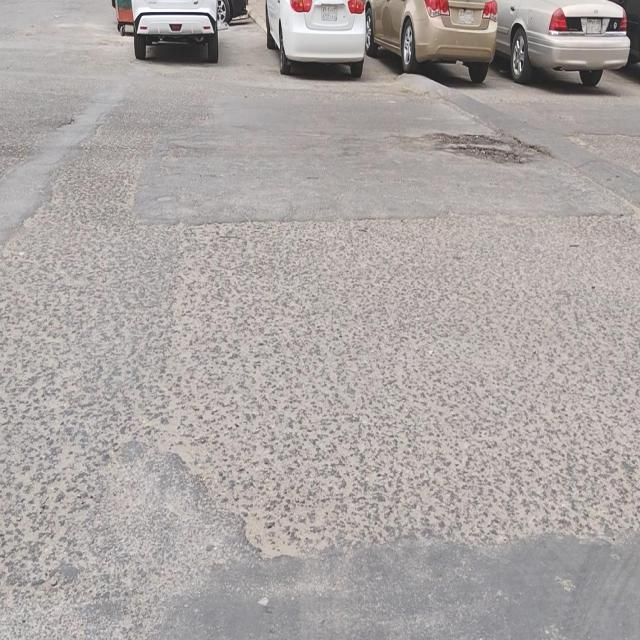Potholes: (433, 129, 539, 168)
